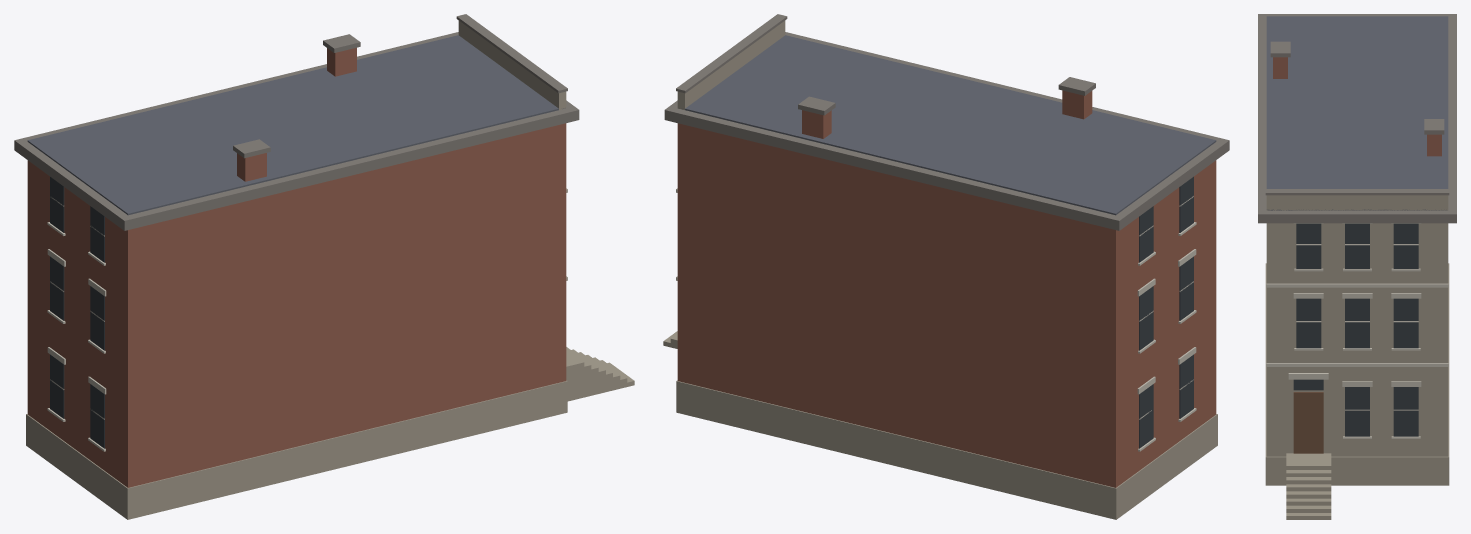
The model's file is house_1915_indiana__draft_1904.glb.
3 views of the same model, side by side, from view 1: azimuth 30°, elevation 25°; view 2: azimuth 150°, elevation 25°; view 3: azimuth 270°, elevation 25° (orthographic). The views are drawn at different scales.
Parts seen in each view (by area): view 1: house_1915_indiana__draft_1904; view 2: house_1915_indiana__draft_1904; view 3: house_1915_indiana__draft_1904.
Boxes of the visible parts, x1=… form: house_1915_indiana__draft_1904: x1=14, y1=14, x2=634, y2=519; house_1915_indiana__draft_1904: x1=663, y1=14, x2=1229, y2=519; house_1915_indiana__draft_1904: x1=1258, y1=14, x2=1456, y2=519.
Bounding box in the file's own units: 21.9 × 13.34 × 7.95.
